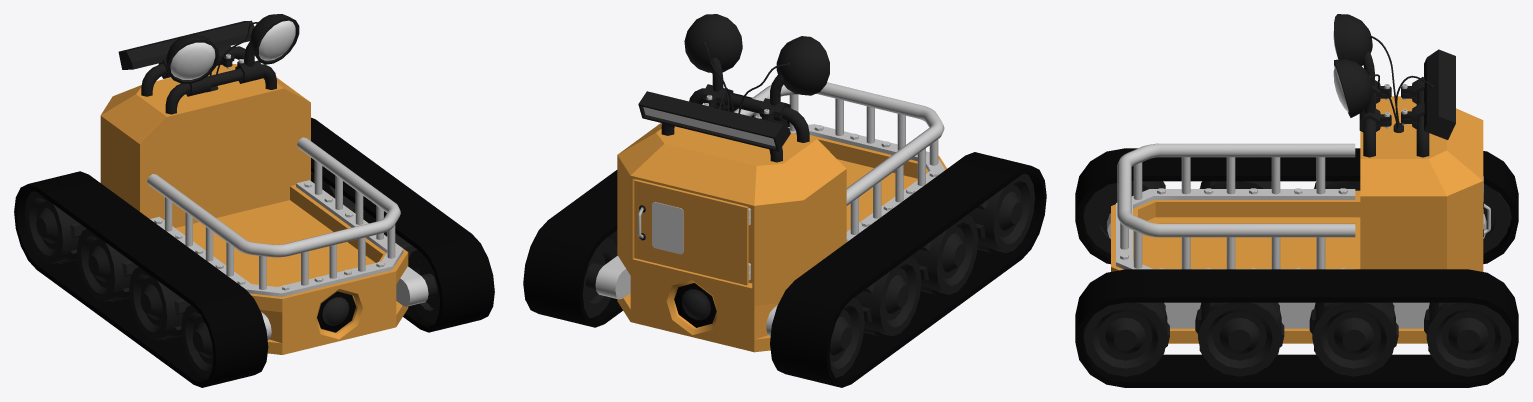
File: robot.fbx
The picture shows the model from 3 angles, left to right: view 1: azimuth 30°, elevation 25°; view 2: azimuth 150°, elevation 25°; view 3: azimuth 270°, elevation 25°; orthographic projection. The views are drawn at different scales.
Visible parts, largest first — view 1: Base, Tank_Track_Right, Tank_Track_Left, Lights, Wheel_Right.001, Wheel_Right.002, Wheel_Right.003, Wheel_Right, Wheel_Left; view 2: Base, Tank_Track_Right, Lights, Electronics_Door, Tank_Track_Left, Wheel_Right.002, Wheel_Right.001, Wheel_Right, Wheel_Right.003, Wheel_Left.003; view 3: Base, Tank_Track_Left, Lights, Tank_Track_Right, Wheel_Left.001, Wheel_Left.002, Wheel_Left.003, Wheel_Left, Wheel_Right, Wheel_Right.003, Wheel_Right.001.
Part boxes in pixels (left/top/right/bottom): Base: left=100, top=64, right=428, bottom=354; Tank_Track_Right: left=14, top=171, right=268, bottom=387; Tank_Track_Left: left=311, top=117, right=494, bottom=332; Lights: left=118, top=14, right=299, bottom=114; Wheel_Right.001: left=129, top=267, right=190, bottom=340; Wheel_Right.002: left=77, top=229, right=138, bottom=302; Wheel_Right.003: left=25, top=191, right=86, bottom=264; Wheel_Right: left=181, top=305, right=213, bottom=378; Wheel_Left: left=408, top=249, right=440, bottom=323; Base: left=595, top=82, right=947, bottom=352; Tank_Track_Right: left=770, top=152, right=1046, bottom=387; Lights: left=638, top=14, right=829, bottom=162; Electronics_Door: left=634, top=179, right=750, bottom=285; Tank_Track_Left: left=523, top=93, right=789, bottom=327; Wheel_Right.002: left=854, top=256, right=921, bottom=336; Wheel_Right.001: left=911, top=214, right=978, bottom=294; Wheel_Right: left=968, top=173, right=1034, bottom=253; Wheel_Right.003: left=829, top=298, right=864, bottom=377; Wheel_Left.003: left=582, top=237, right=617, bottom=317; Base: left=1107, top=96, right=1486, bottom=343; Tank_Track_Left: left=1075, top=269, right=1518, bottom=387; Lights: left=1333, top=14, right=1455, bottom=157; Tank_Track_Right: left=1075, top=148, right=1518, bottom=264; Wheel_Left.001: left=1195, top=302, right=1284, bottom=376; Wheel_Left.002: left=1309, top=302, right=1398, bottom=376; Wheel_Left.003: left=1424, top=302, right=1511, bottom=376; Wheel_Left: left=1083, top=302, right=1169, bottom=376; Wheel_Right: left=1083, top=181, right=1165, bottom=253; Wheel_Right.003: left=1483, top=184, right=1511, bottom=253; Wheel_Right.001: left=1199, top=181, right=1271, bottom=188.
Size of the model in its own units: 0.9714 by 0.8367 by 1.22.
